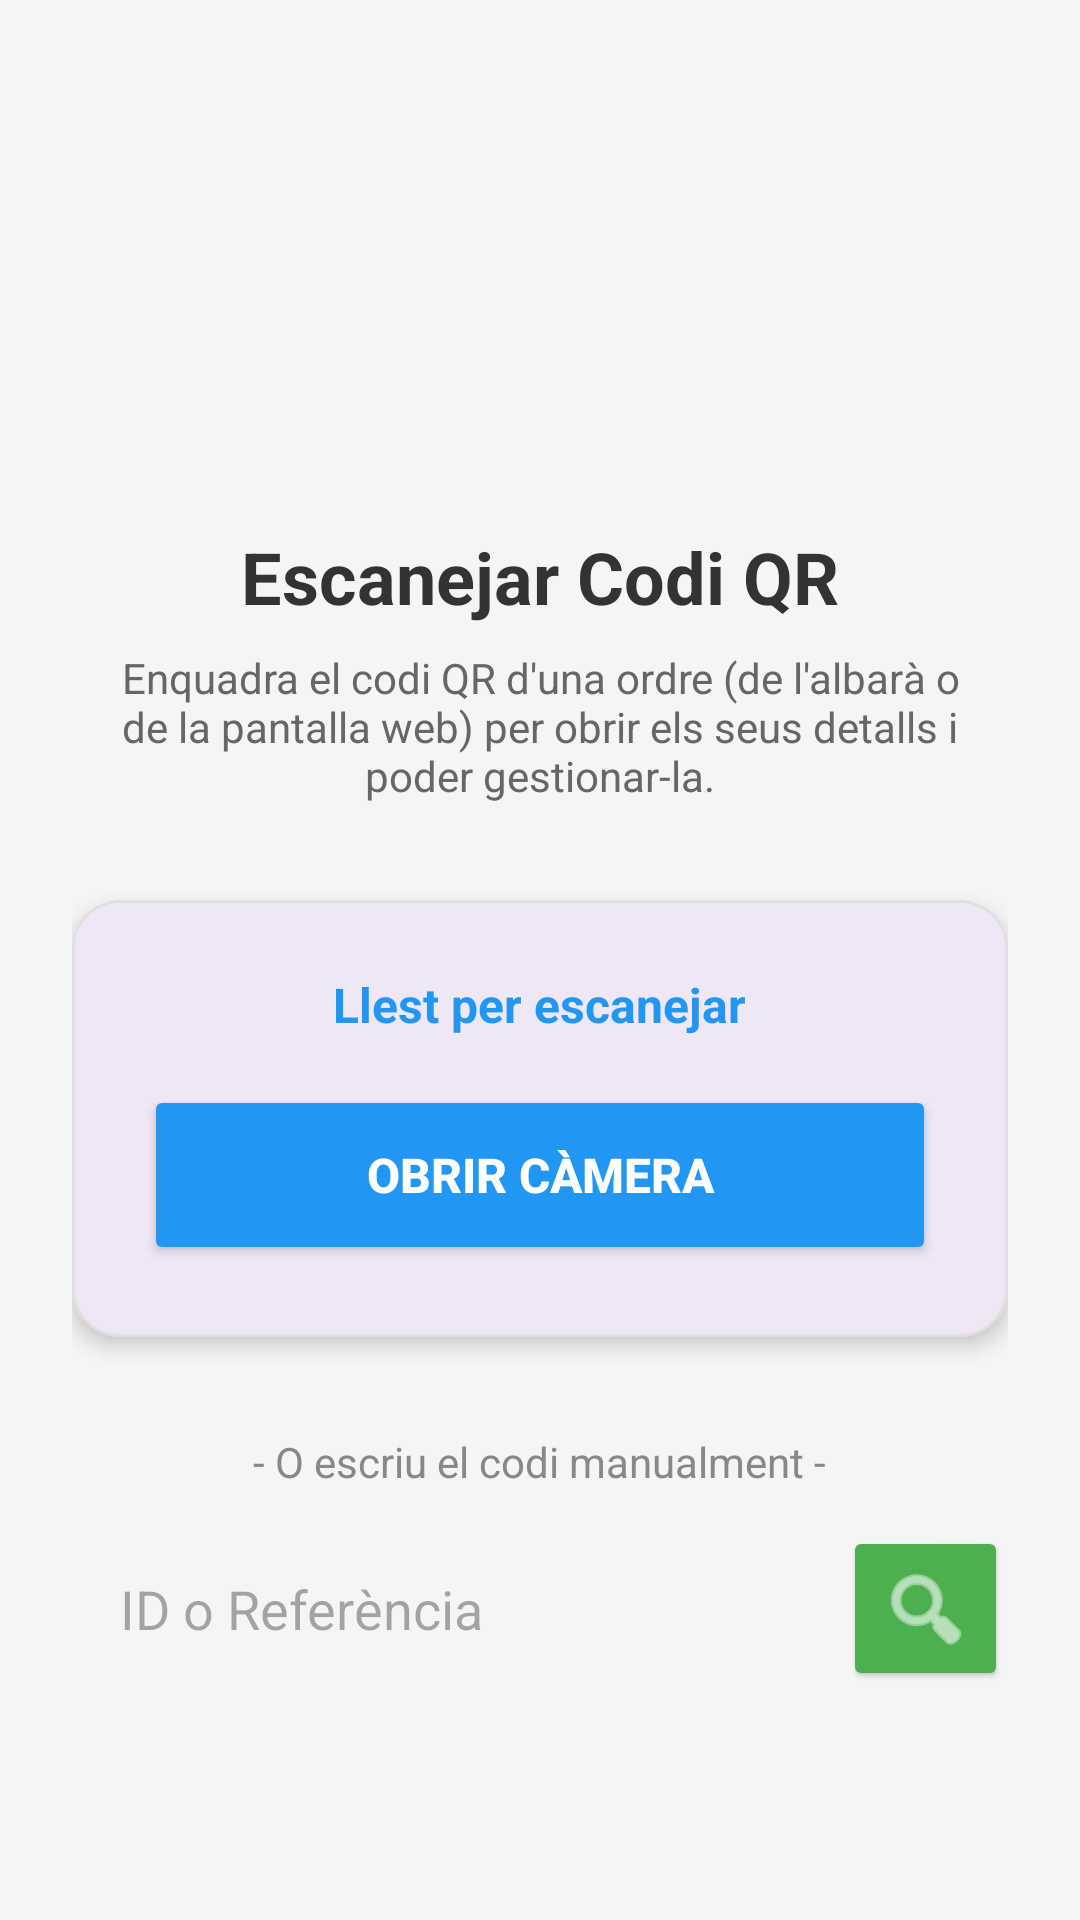

Point at icon controls on the screen. Image size 1080x1920, points as point (x, y).
Cerca manual: point (925, 1609)
